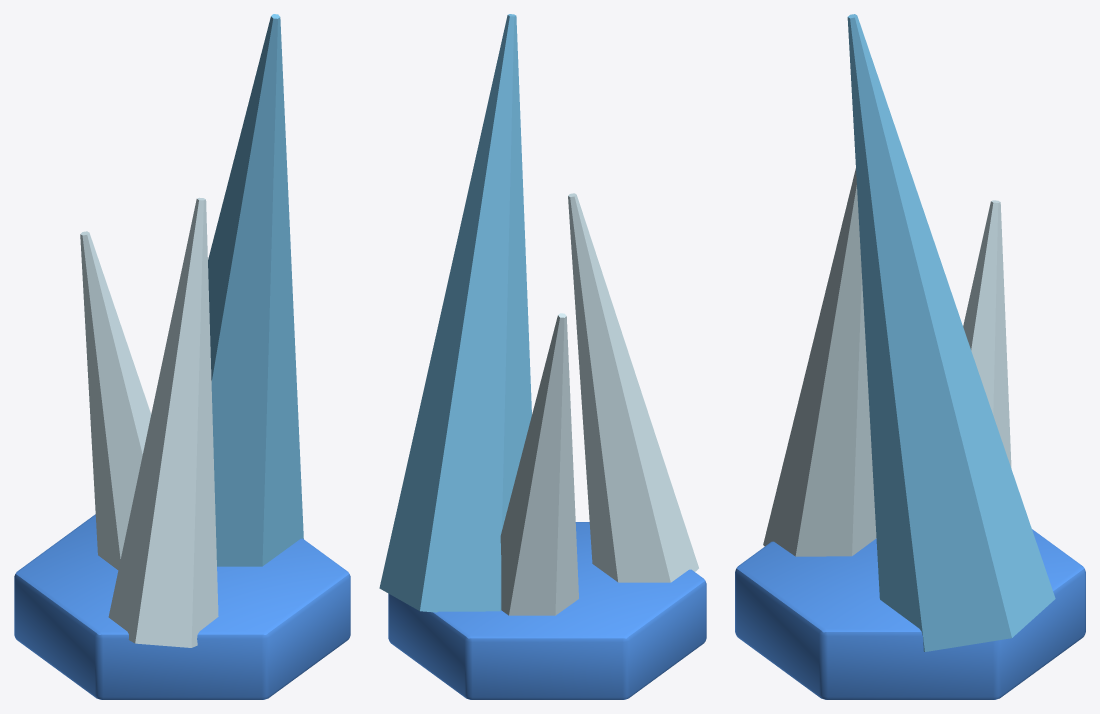
File: DecoCrystal.fbx
3 views of the same model, side by side, from view 1: azimuth 30°, elevation 25°; view 2: azimuth 150°, elevation 25°; view 3: azimuth 270°, elevation 25° (orthographic). The views are drawn at different scales.
Visible parts, largest first — view 1: DecoCrystal; view 2: DecoCrystal; view 3: DecoCrystal.
Boxes of the visible parts, <box> form: DecoCrystal: <box>14,14,350,699</box>; DecoCrystal: <box>379,14,706,699</box>; DecoCrystal: <box>735,14,1085,699</box>.
Bounding box in the file's own units: 157 × 368 × 178.
